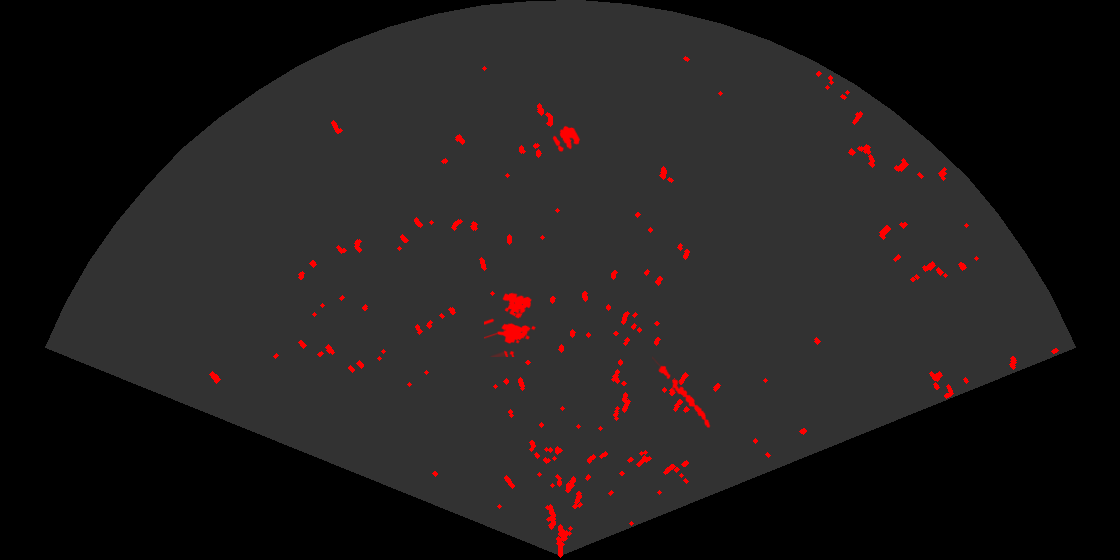ball: (551, 124, 582, 153)
cage: (484, 291, 537, 357)
chain: (652, 355, 712, 430)
